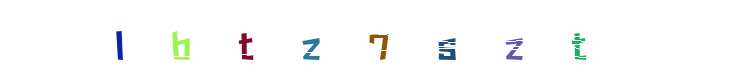7: (336, 0, 416, 80)
B: (205, 0, 285, 80)
L: (142, 0, 222, 80)
S: (341, 0, 421, 80)
T: (272, 0, 352, 80), (538, 0, 618, 80)
Z: (312, 0, 392, 80), (390, 0, 470, 80)
